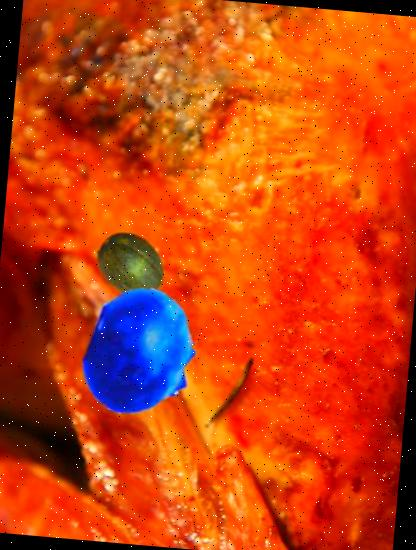Huckleberry: (72, 283, 212, 424)
Melon: (92, 224, 172, 303)
